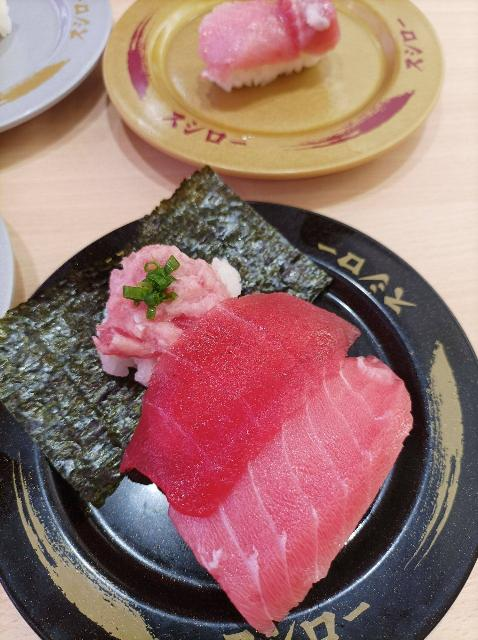janback: (0, 200, 478, 640)
jangold: (110, 0, 449, 174)
janwhite: (0, 0, 114, 125), (0, 172, 42, 322)
